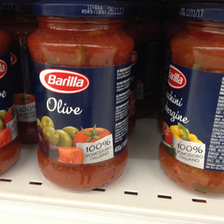tomato_sauce: (27, 2, 135, 193), (156, 6, 224, 196)
